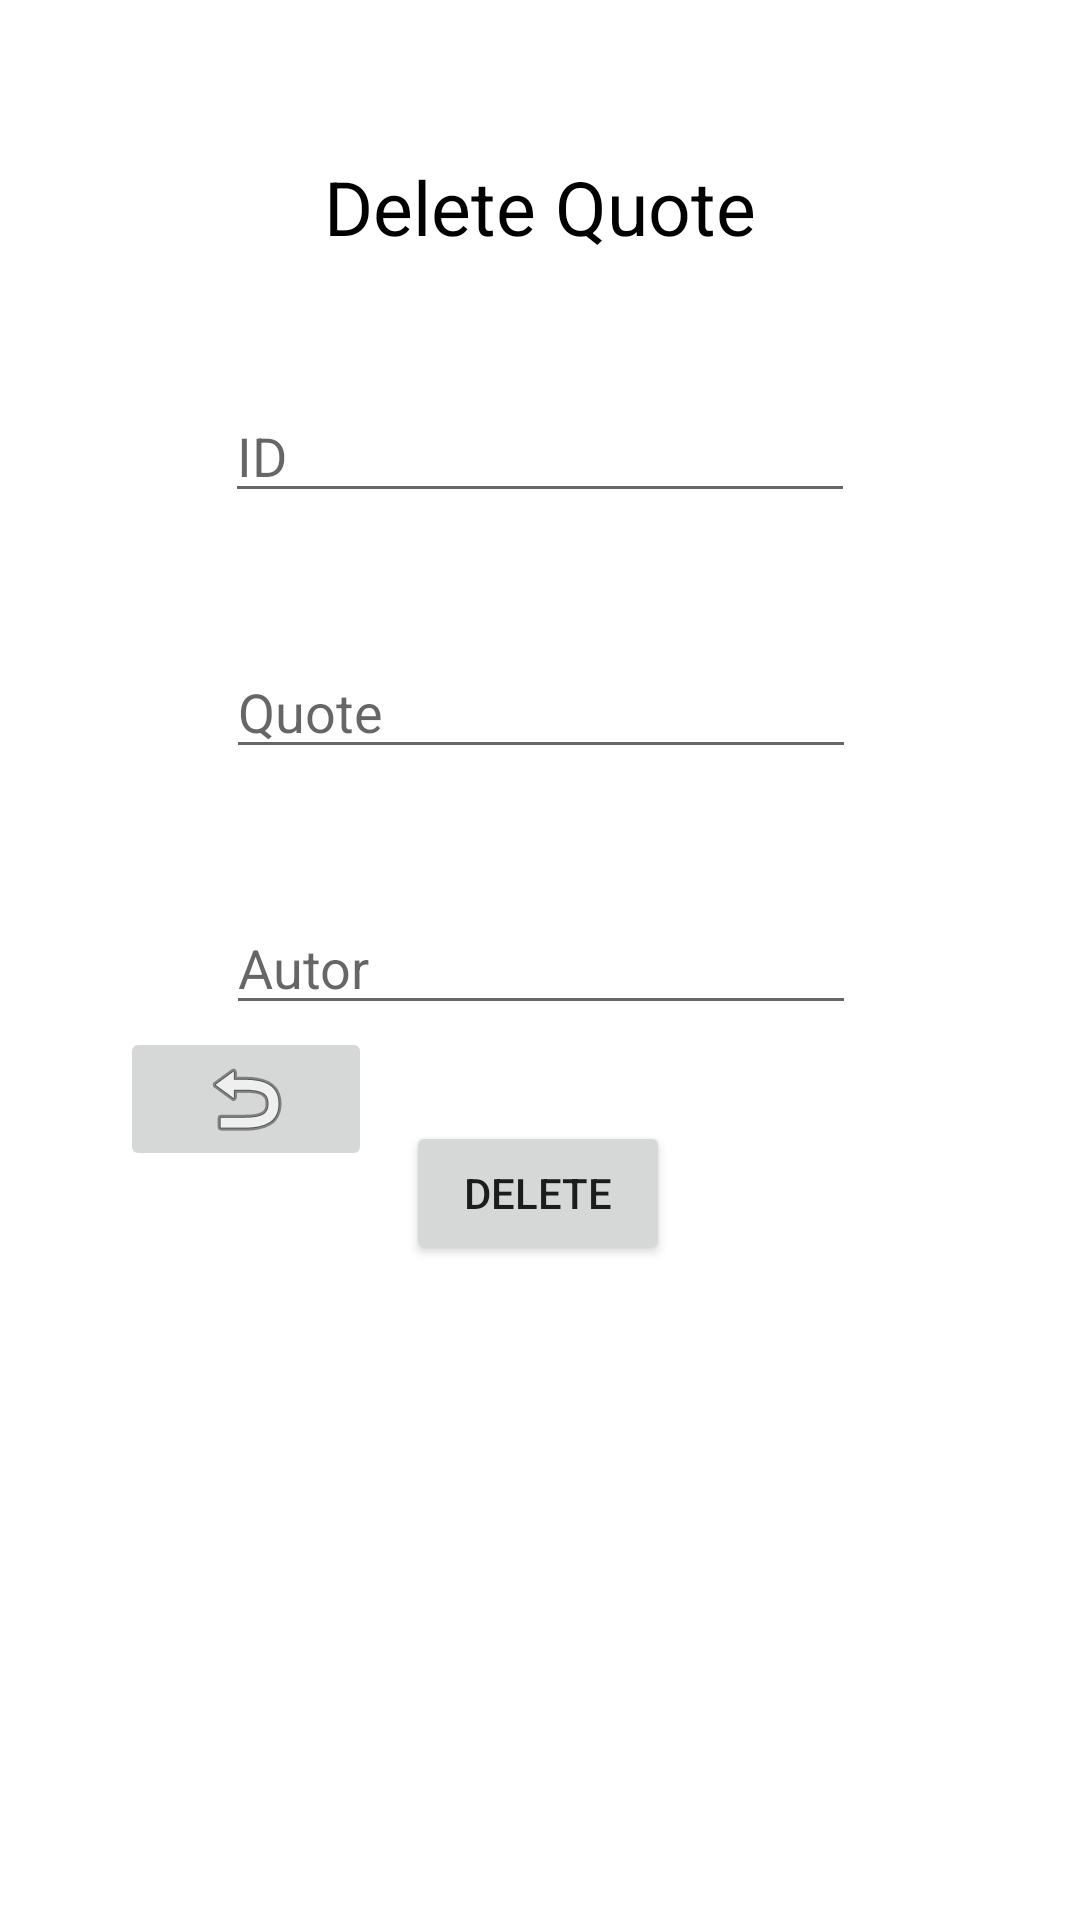

Icon click points for this 1080x1920 phone screenshot, format (x=x, y=y):
revert: (x=246, y=1099)
